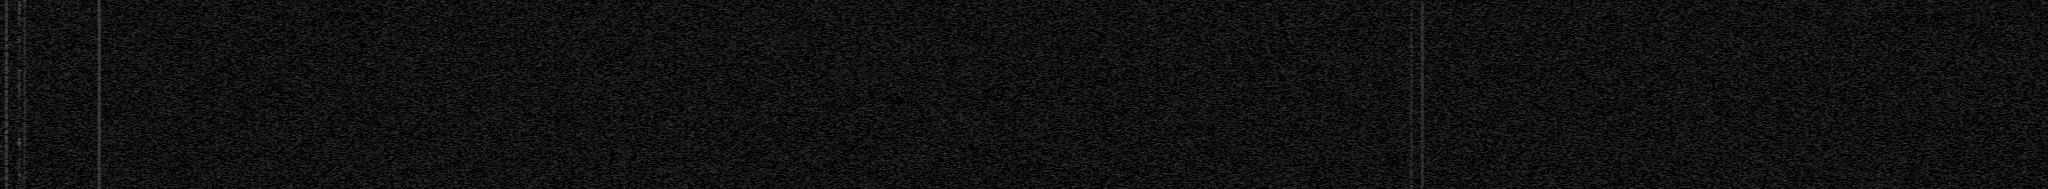wv_am: (1409, 0, 1415, 189), (22, 0, 27, 189), (1420, 0, 1425, 189), (4, 0, 9, 189)
wv_cw: (97, 0, 102, 189)
wv_lsb: (16, 57, 22, 126), (16, 130, 22, 189), (17, 27, 22, 56), (17, 1, 22, 27)
